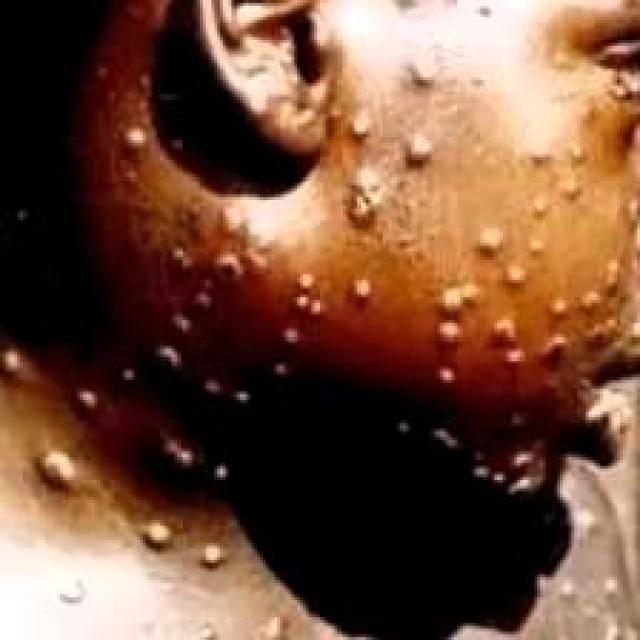monkeypox: (82, 5, 637, 640)
